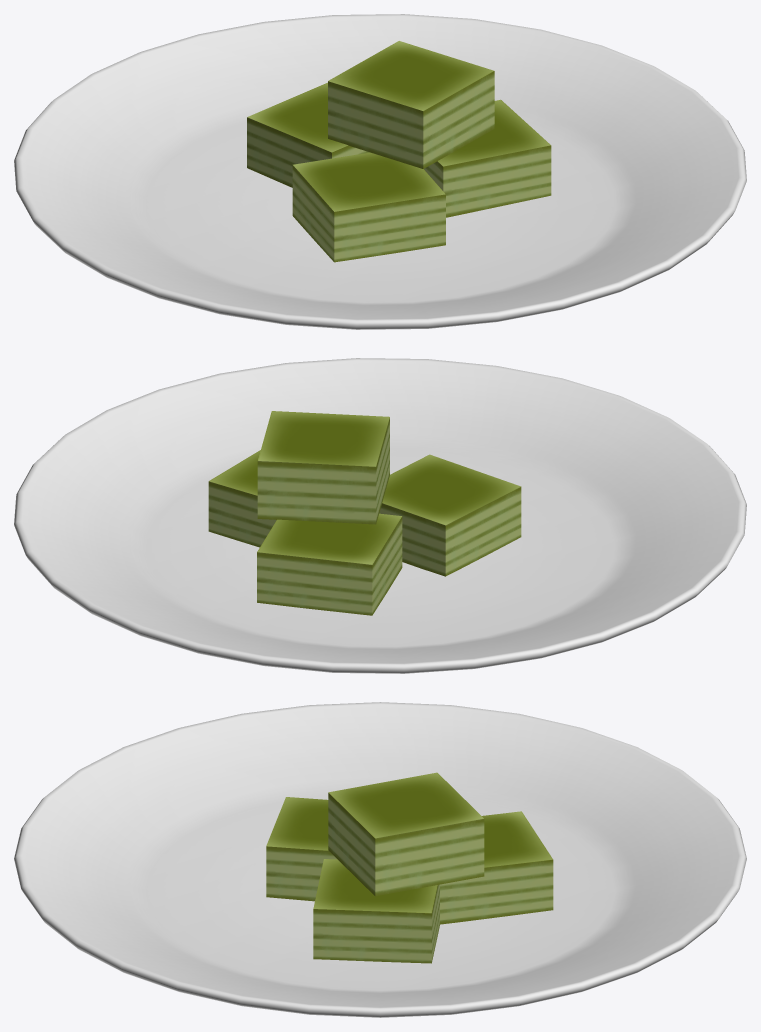
File: dish_and_friends.fbx
3 views of the same model, one above another, from view 1: azimuth 30°, elevation 25°; view 2: azimuth 150°, elevation 25°; view 3: azimuth 270°, elevation 25° (orthographic).
Visible parts, largest first — view 1: dish_mesh, Steamed_Layer_Cake_4, Steamed_Layer_Cake_2, Steamed_Layer_Cake_3, Steamed_Layer_Cake_1; view 2: dish_mesh, Steamed_Layer_Cake_4, Steamed_Layer_Cake_1, Steamed_Layer_Cake_2, Steamed_Layer_Cake_3; view 3: dish_mesh, Steamed_Layer_Cake_4, Steamed_Layer_Cake_3, Steamed_Layer_Cake_1, Steamed_Layer_Cake_2.
Part boxes in pixels (box(x1,y1,x2,y2)): dish_mesh: box(14, 14, 746, 329); Steamed_Layer_Cake_4: box(328, 41, 494, 168); Steamed_Layer_Cake_2: box(292, 152, 445, 262); Steamed_Layer_Cake_3: box(424, 99, 551, 217); Steamed_Layer_Cake_1: box(247, 82, 369, 187); dish_mesh: box(14, 358, 746, 673); Steamed_Layer_Cake_4: box(257, 411, 389, 524); Steamed_Layer_Cake_1: box(257, 513, 402, 615); Steamed_Layer_Cake_2: box(379, 454, 521, 576); Steamed_Layer_Cake_3: box(208, 450, 276, 547); dish_mesh: box(14, 702, 746, 1017); Steamed_Layer_Cake_4: box(328, 772, 484, 896); Steamed_Layer_Cake_3: box(313, 859, 439, 963); Steamed_Layer_Cake_1: box(440, 811, 553, 924); Steamed_Layer_Cake_2: box(266, 797, 336, 901).
Bounding box in the file's own units: 2.67 × 0.4734 × 2.67.
